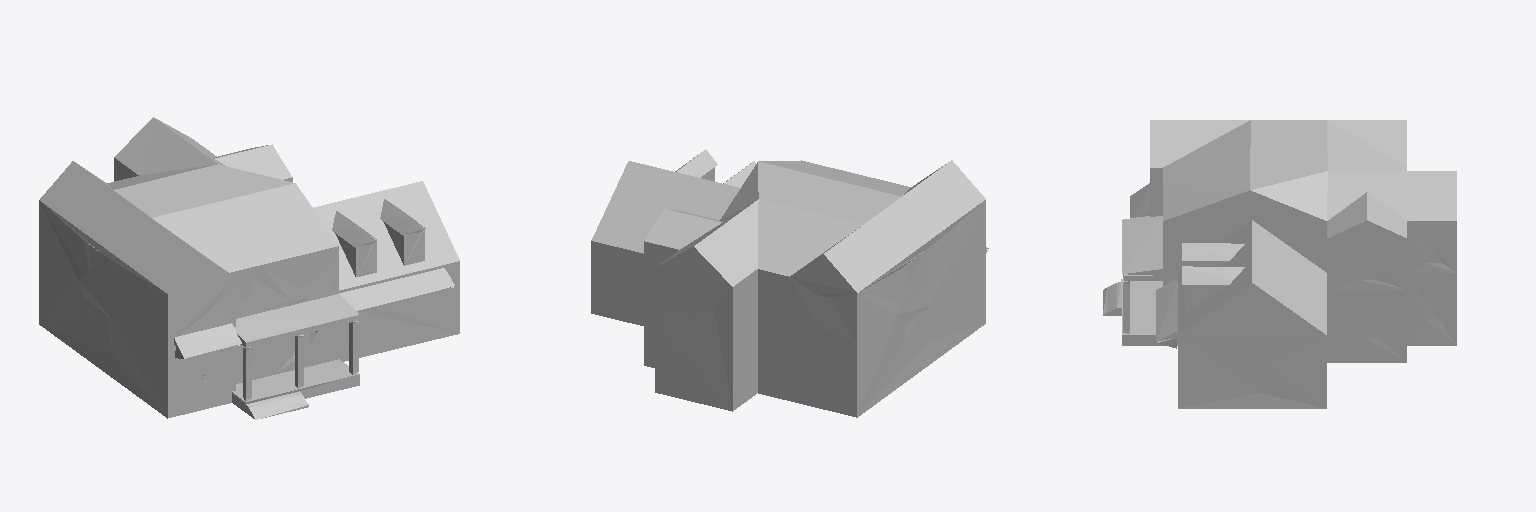
The model's file is Casa.obj.
3 renders of one model, left to right at view 1: azimuth 30°, elevation 25°; view 2: azimuth 150°, elevation 25°; view 3: azimuth 270°, elevation 25°, orthographic.
Visible parts, largest first — view 1: Casa.001; view 2: Casa.001; view 3: Casa.001.
Part boxes in pixels (left/top/right/bottom): Casa.001: left=39, top=117, right=459, bottom=419; Casa.001: left=591, top=149, right=988, bottom=417; Casa.001: left=1103, top=120, right=1456, bottom=408.
Bounding box in the file's own units: 17.5 × 8.49 × 17.53.